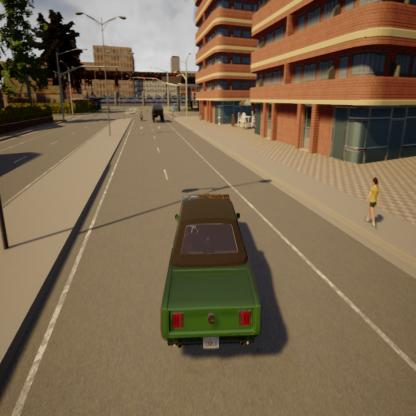Cars: (160, 194, 262, 356), (151, 104, 164, 125), (137, 107, 144, 122)
Pedestrian: (366, 174, 382, 230)
